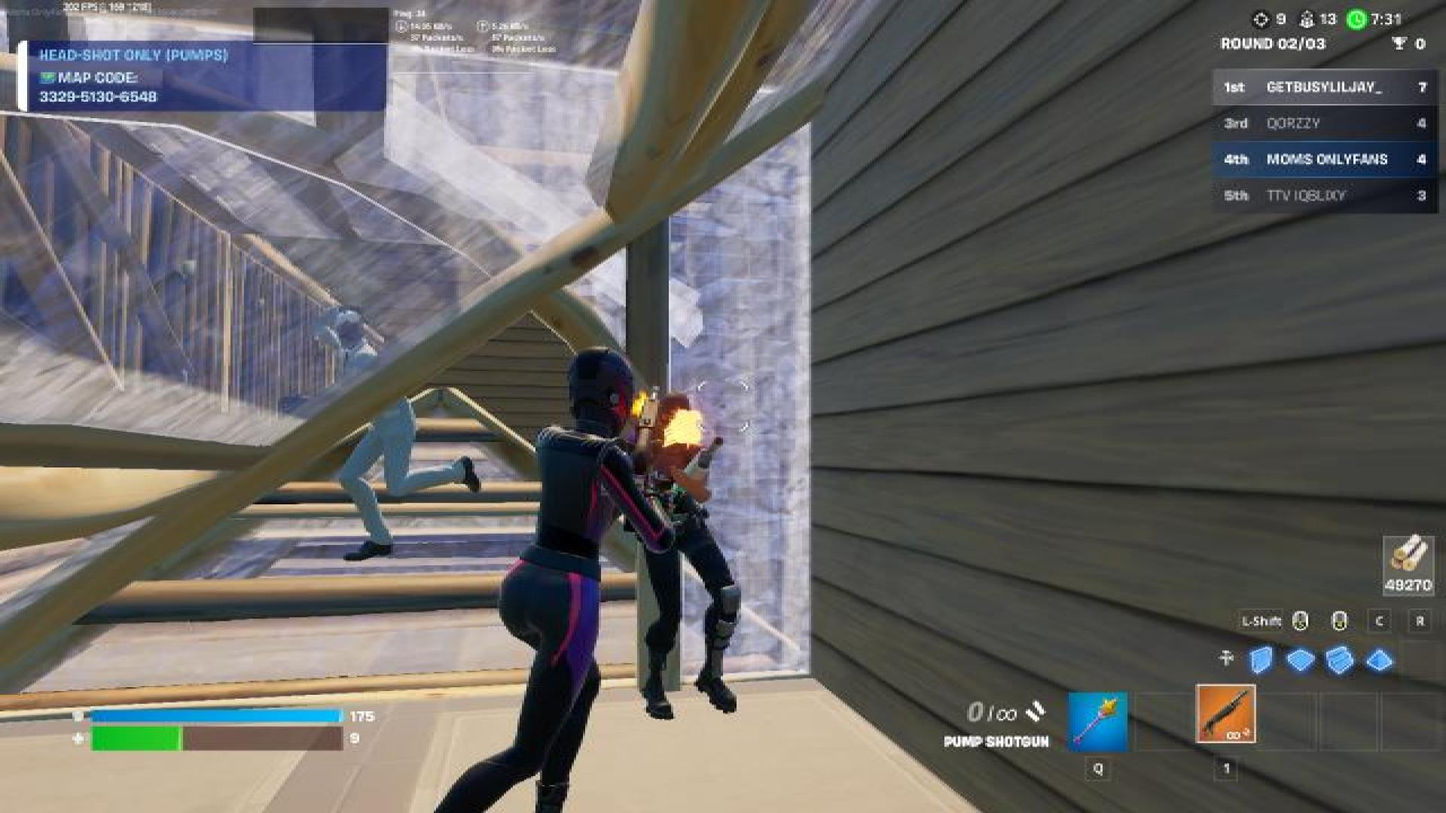player: (622, 395, 760, 717), (340, 420, 482, 535)
